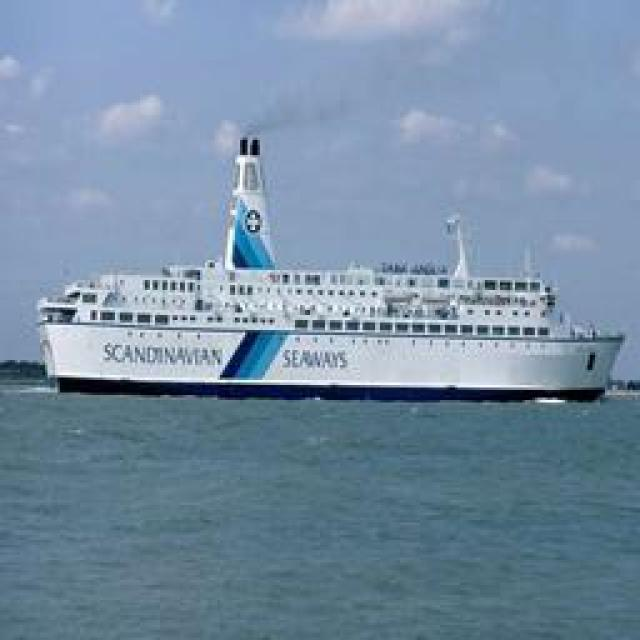CIV_Ship: (26, 132, 629, 396)
